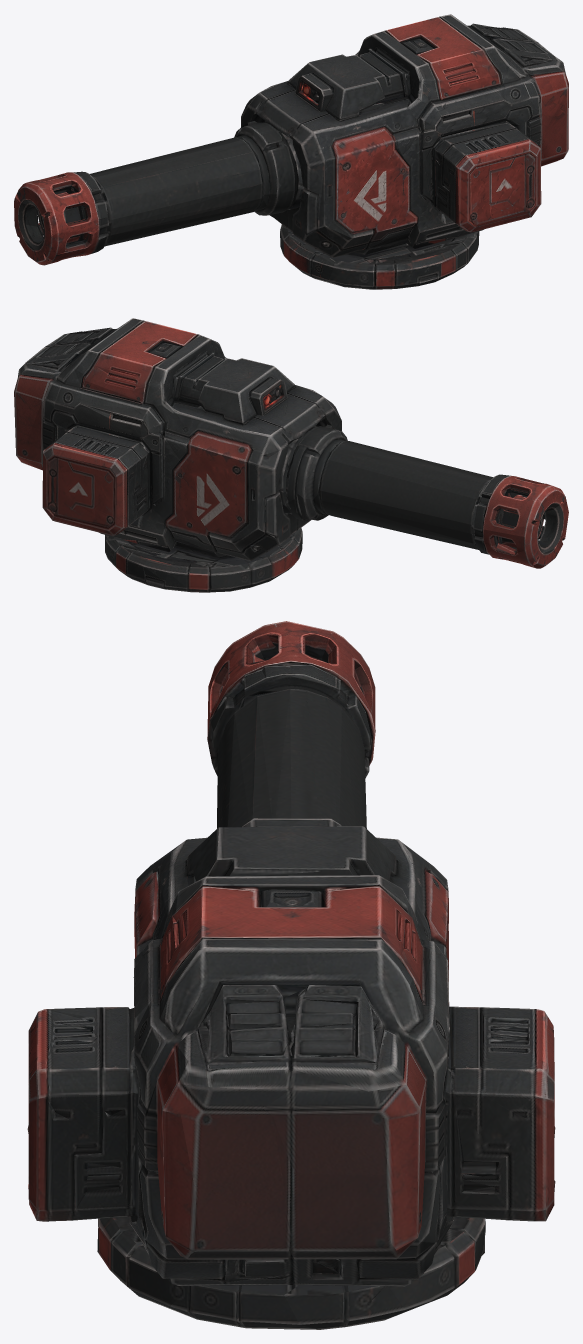
The model's file is autocannon_upper.glb.
3 renders of one model, top to bottom at view 1: azimuth 30°, elevation 25°; view 2: azimuth 150°, elevation 25°; view 3: azimuth 270°, elevation 25°, orthographic. The views are drawn at different scales.
Visible parts, largest first — view 1: output_unwrapped; view 2: output_unwrapped; view 3: output_unwrapped.
Boxes of the visible parts, left/top/right/bottom form: output_unwrapped: left=14, top=14, right=568, bottom=289; output_unwrapped: left=14, top=318, right=568, bottom=592; output_unwrapped: left=27, top=621, right=555, bottom=1329.
Bounding box in the file's own units: 1.9 × 0.6986 × 0.848.
1 material, 1 textured.
